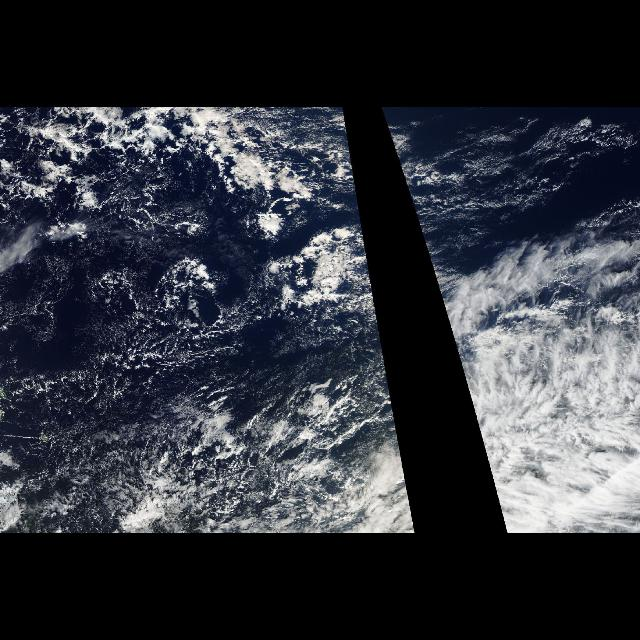Gravel: (78, 180, 292, 330)
Sugar: (4, 120, 366, 340), (6, 344, 388, 530), (444, 126, 628, 214)
